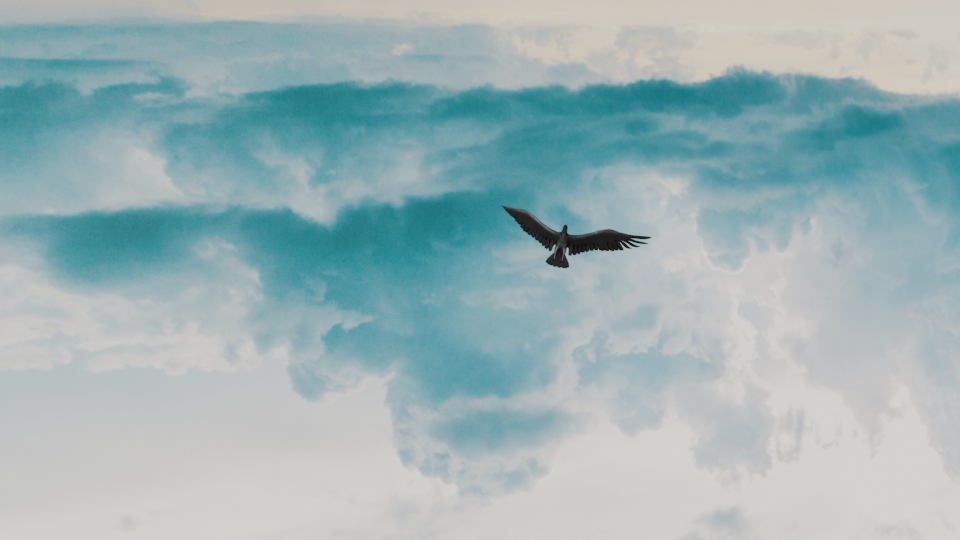bird: (500, 203, 643, 271)
